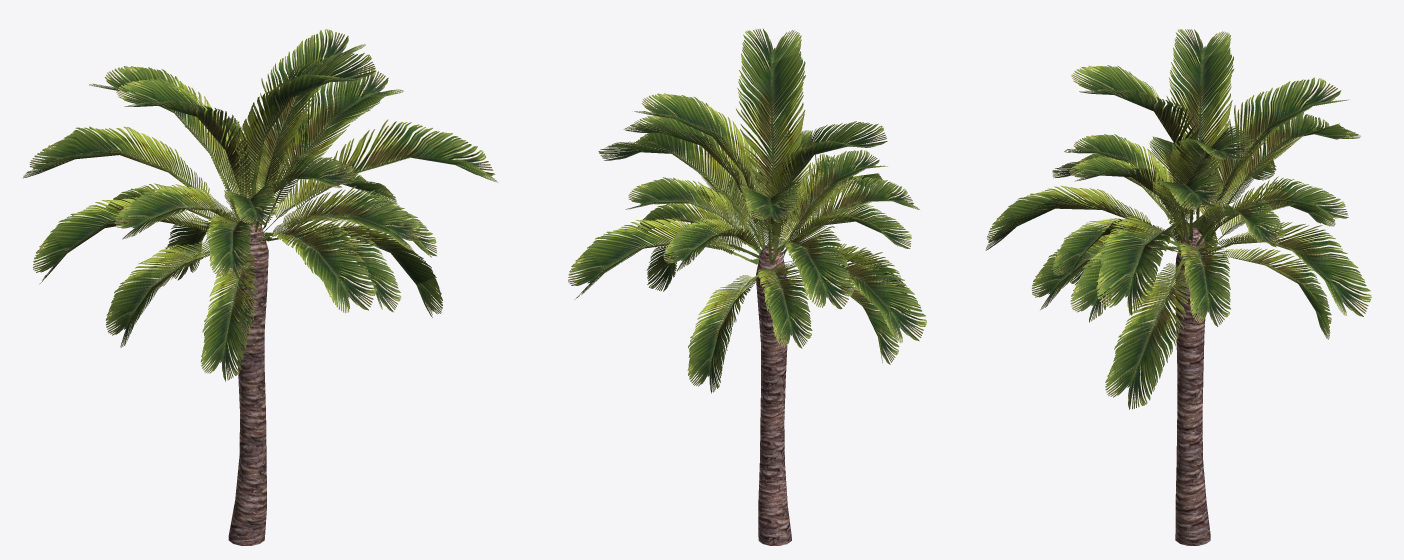
3 renders of one model, left to right at view 1: azimuth 30°, elevation 25°; view 2: azimuth 150°, elevation 25°; view 3: azimuth 270°, elevation 25°, orthographic. The views are drawn at different scales.
Parts seen in each view (by area): view 1: Mesh Object; view 2: Mesh Object; view 3: Mesh Object.
Part boxes in pixels (box(x1,y1,x2,y2)): Mesh Object: box(23, 29, 498, 545); Mesh Object: box(568, 28, 926, 545); Mesh Object: box(985, 29, 1371, 545).
Size of the model in its own units: 31.44 by 35.33 by 26.89.
